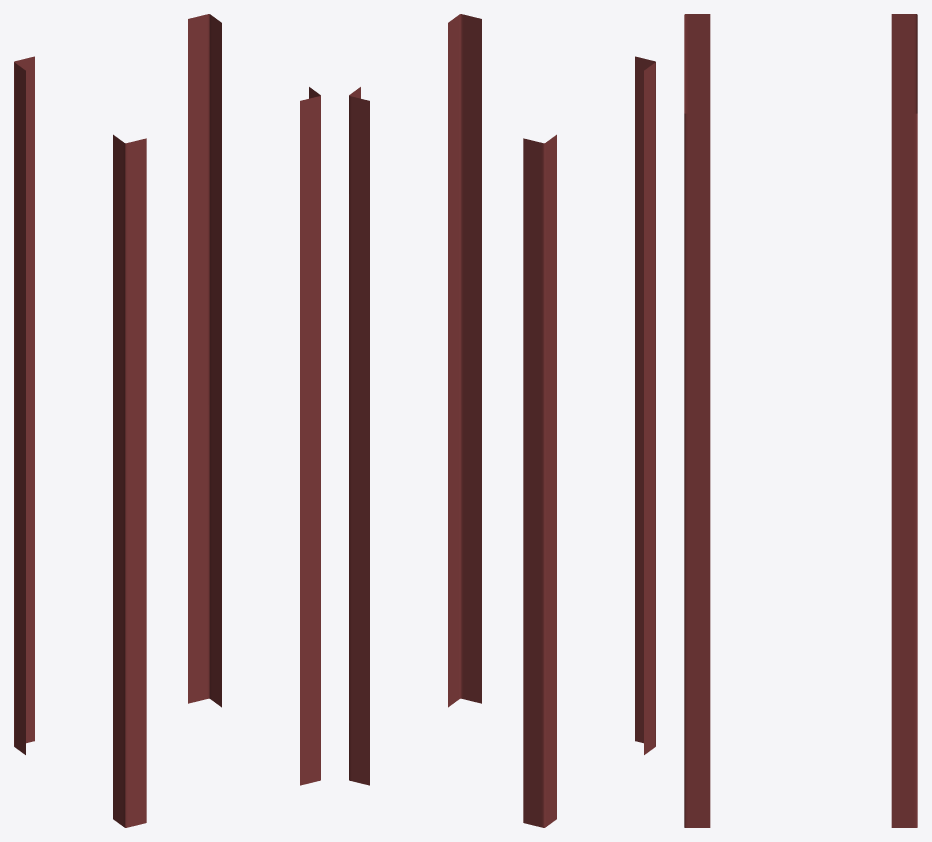
File: Decal_wallIn_B_column_medium.FBX
3 views of the same model, side by side, from view 1: azimuth 30°, elevation 25°; view 2: azimuth 150°, elevation 25°; view 3: azimuth 270°, elevation 25° (orthographic). The views are drawn at different scales.
Visible parts, largest first — view 1: Decal_wallIn_B_column_medium; view 2: Decal_wallIn_B_column_medium; view 3: Decal_wallIn_B_column_medium.
Boxes of the visible parts, <box> form: Decal_wallIn_B_column_medium: <box>14,14,320,827</box>; Decal_wallIn_B_column_medium: <box>349,14,655,827</box>; Decal_wallIn_B_column_medium: <box>684,14,917,827</box>.
Size of the model in its own units: 75.67 by 253 by 74.84.
